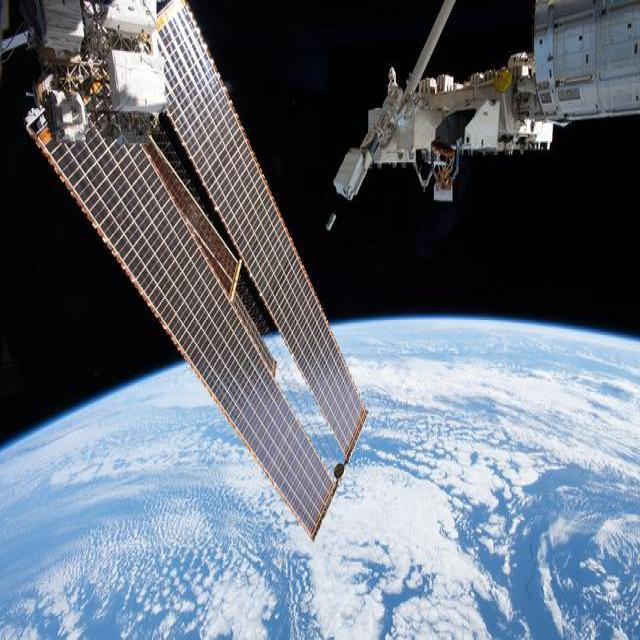medium_debris: (25, 0, 366, 537)
